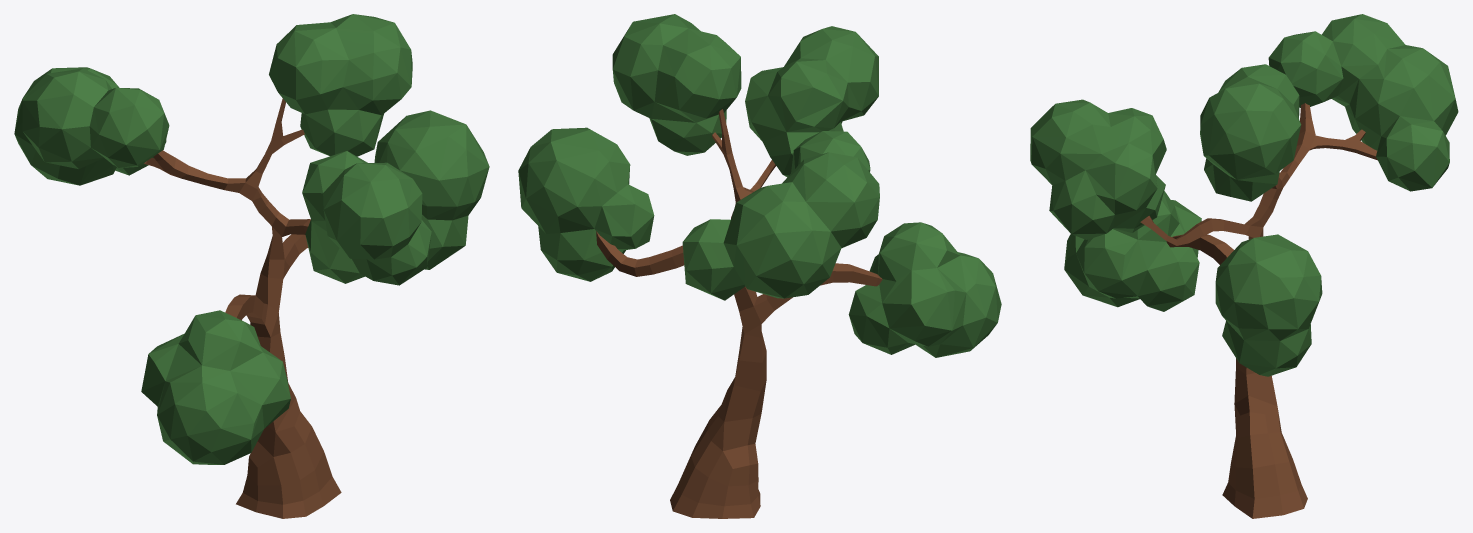
Rendered from tree04.fbx.
The picture shows the model from 3 angles, left to right: view 1: azimuth 30°, elevation 25°; view 2: azimuth 150°, elevation 25°; view 3: azimuth 270°, elevation 25°; orthographic projection. The views are drawn at different scales.
Visible parts, largest first — view 1: polySurface6, polySurface1, polySurface3, polySurface2, polySurface5, polySurface4; view 2: polySurface2, polySurface1, polySurface6, polySurface4, polySurface3, polySurface5; view 3: polySurface2, polySurface5, polySurface1, polySurface4, polySurface3, polySurface6.
Part boxes in pixels (x1,y1,x2,y2): polySurface6: [141, 310, 290, 464]; polySurface1: [144, 98, 341, 518]; polySurface3: [269, 14, 412, 156]; polySurface2: [14, 67, 169, 185]; polySurface5: [302, 151, 431, 285]; polySurface4: [374, 110, 489, 269]; polySurface2: [682, 131, 879, 300]; polySurface1: [596, 109, 882, 518]; polySurface6: [848, 222, 1001, 357]; polySurface4: [518, 127, 654, 281]; polySurface3: [612, 14, 741, 155]; polySurface5: [745, 26, 878, 177]; polySurface2: [1268, 14, 1458, 191]; polySurface5: [1030, 99, 1166, 239]; polySurface1: [1140, 103, 1377, 518]; polySurface4: [1215, 234, 1322, 376]; polySurface3: [1200, 64, 1301, 201]; polySurface6: [1064, 191, 1201, 311].
Bounding box in the file's own units: 363 × 408 × 358.
